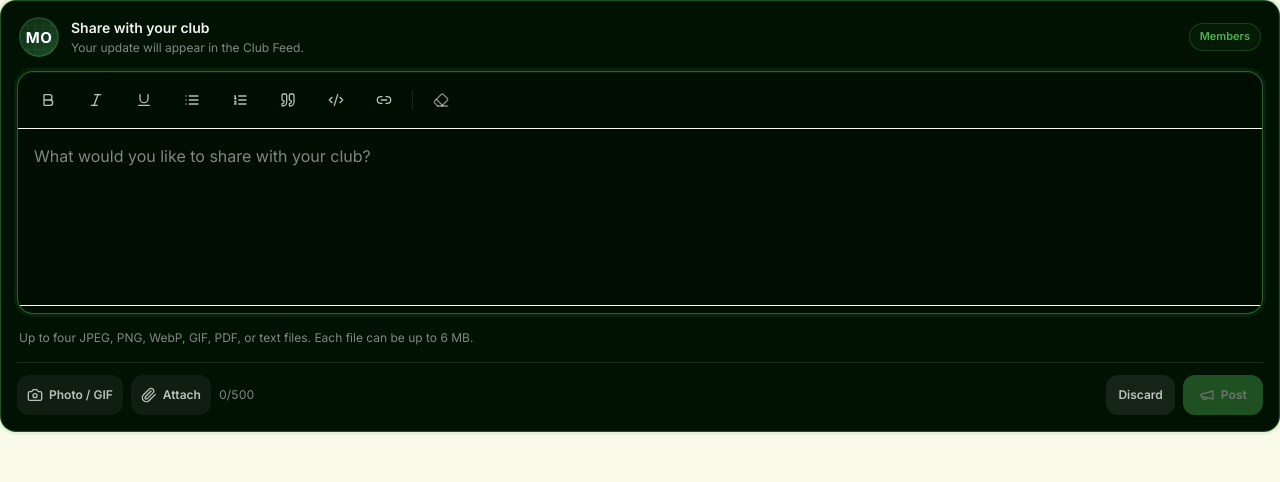
Test: ClubFeedComposer › retains the composer and presents a recoverable error if publishing fails
Type "A retained draft." into the text box named "Post an announcement" at point(640, 217), box [18, 129, 1262, 305]
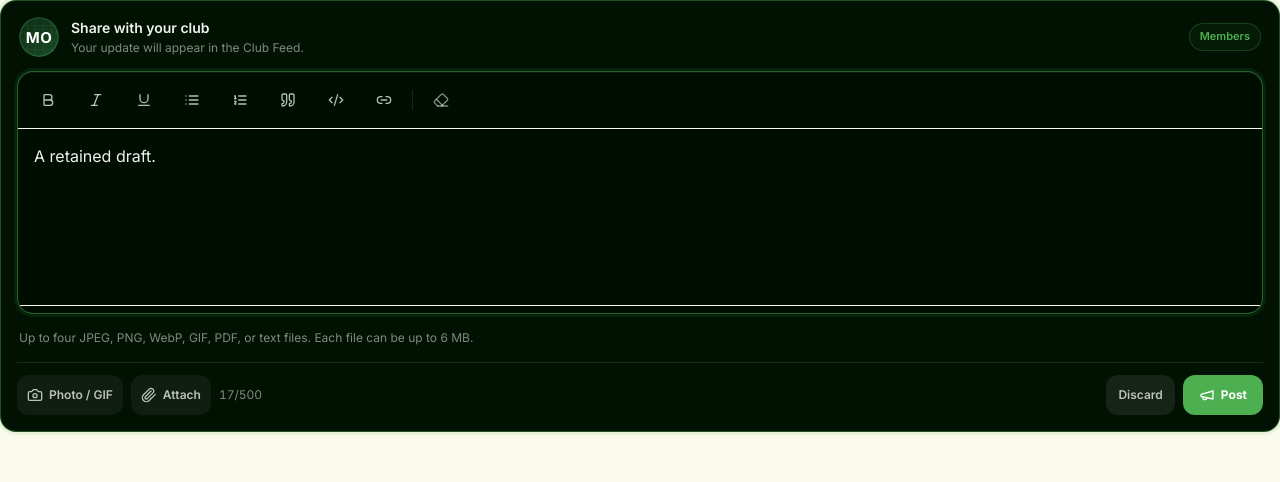
Click the button "Post" at point(1223, 395), box [1183, 375, 1263, 415]
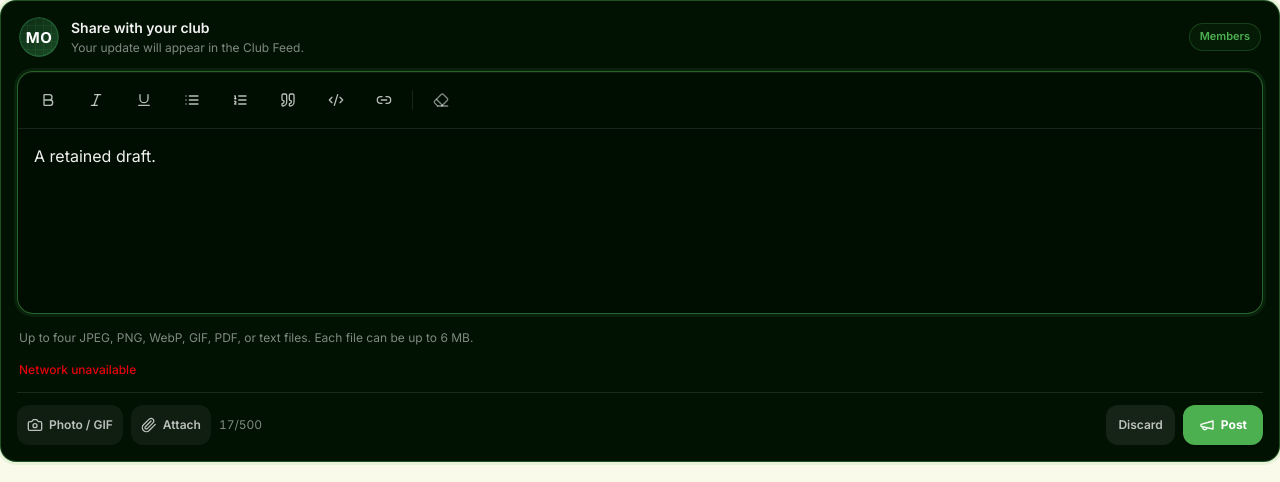
Now the button "Post" is enabled, box [1183, 405, 1263, 445]
Now the message reads "Network unavailable", box [19, 362, 136, 377]
